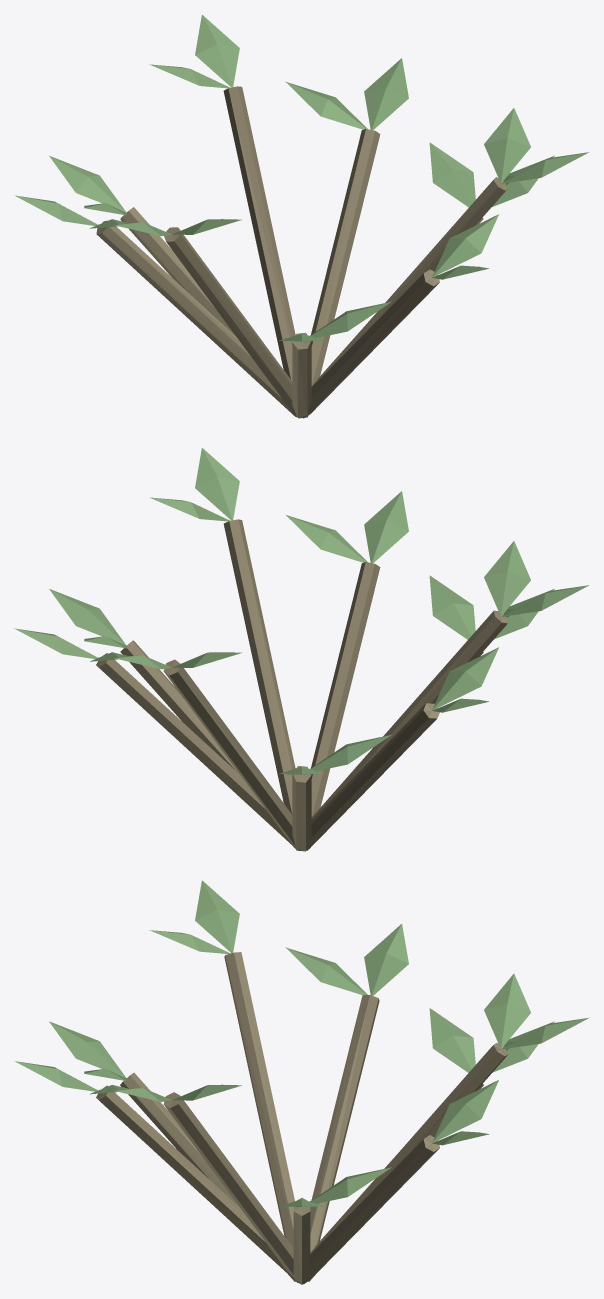
The model's file is shrub_green.glb.
3 renders of one model, top to bottom at view 1: azimuth 30°, elevation 25°; view 2: azimuth 150°, elevation 25°; view 3: azimuth 270°, elevation 25°, orthographic.
Visible parts, largest first — view 1: twig_2, twig_1, twig_4, twig_5, twig_7, twig_8, twig_3, leaf_8_1, leaf_1_0, leaf_2_0, leaf_0_1, leaf_7_1 (+8 smaller); view 2: twig_8, twig_7, twig_2, twig_1, twig_4, twig_5, twig_0, leaf_5_1, leaf_8_0, leaf_7_0, leaf_6_1, leaf_4_1 (+8 smaller); view 3: twig_5, twig_4, twig_8, twig_7, twig_1, twig_2, twig_6, leaf_2_1, leaf_4_0, leaf_5_0, leaf_3_1, leaf_1_1 (+8 smaller).
Part boxes in pixels (<box>): twig_2: <box>223,86,295,380</box>; twig_1: <box>311,129,380,385</box>; twig_4: <box>96,220,295,416</box>; twig_5: <box>164,227,296,417</box>; twig_7: <box>302,269,439,418</box>; twig_8: <box>308,177,508,414</box>; twig_3: <box>120,207,235,335</box>; leaf_8_1: <box>484,108,530,183</box>; leaf_1_0: <box>364,58,408,130</box>; leaf_2_0: <box>195,15,239,87</box>; leaf_0_1: <box>429,142,475,207</box>; leaf_7_1: <box>432,214,498,277</box>; twig_8: <box>223,519,295,814</box>; twig_7: <box>311,562,380,816</box>; twig_2: <box>163,659,300,850</box>; twig_1: <box>96,653,295,848</box>; twig_4: <box>299,703,439,850</box>; twig_5: <box>309,610,507,848</box>; twig_0: <box>120,640,295,848</box>; leaf_5_1: <box>484,541,530,616</box>; leaf_8_0: <box>195,448,239,520</box>; leaf_7_0: <box>364,491,408,563</box>; leaf_6_1: <box>429,575,475,639</box>; leaf_4_1: <box>432,647,498,710</box>; twig_5: <box>224,952,294,1248</box>; twig_4: <box>310,995,379,1252</box>; twig_8: <box>163,1092,300,1283</box>; twig_7: <box>96,1085,298,1282</box>; twig_1: <box>303,1135,439,1283</box>; twig_2: <box>306,1043,508,1282</box>; twig_6: <box>120,1072,295,1281</box>; leaf_2_1: <box>484,973,530,1048</box>; leaf_4_0: <box>364,924,408,995</box>; leaf_5_0: <box>195,880,239,952</box>; leaf_3_1: <box>429,1008,475,1072</box>; leaf_1_1: <box>432,1080,498,1143</box>.
Size of the model in its own units: 1.07 by 0.5938 by 1.08.
